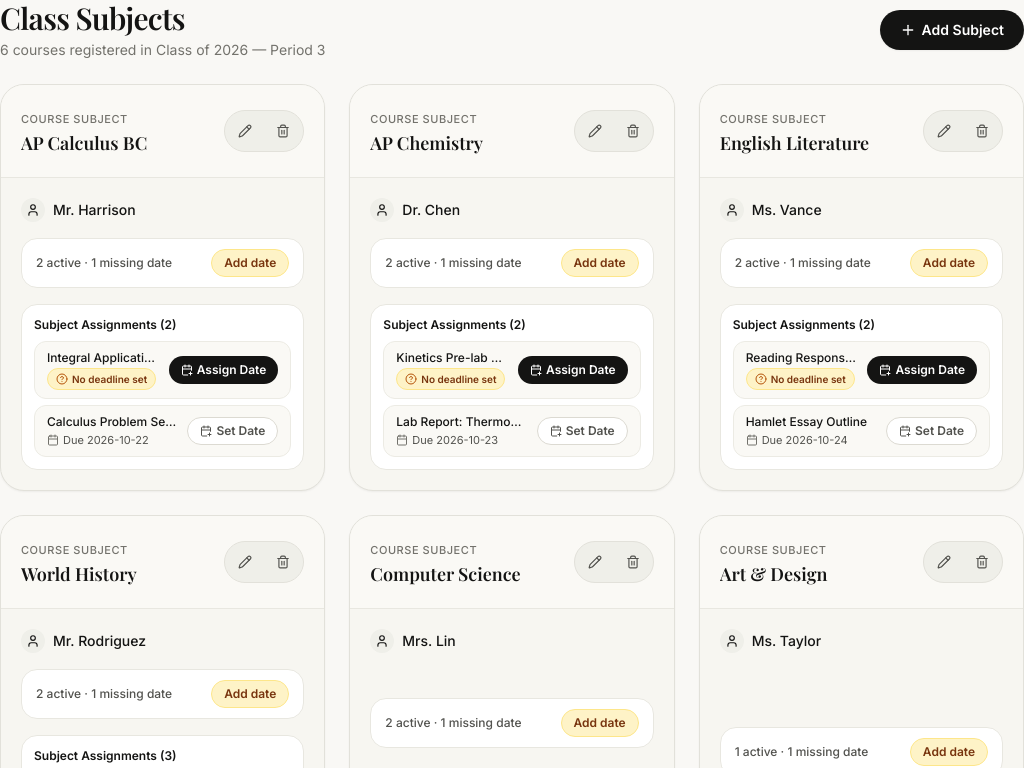
Test: SubjectsScreen Component › shows all assignments for subjects even when there are no deadlines, and lets students assign a deadline
Expected: the heading "AP Calculus BC" is shown, [21,129,147,157]
Expected: the text "Calculus Problem Set 4" is shown, [47,414,179,430]
# Student assigns a deadline to the undated assignment
Click the button with aria-label "assign deadline for integral applications worksheet" at coordinates (224, 370), box [169,356,278,384]
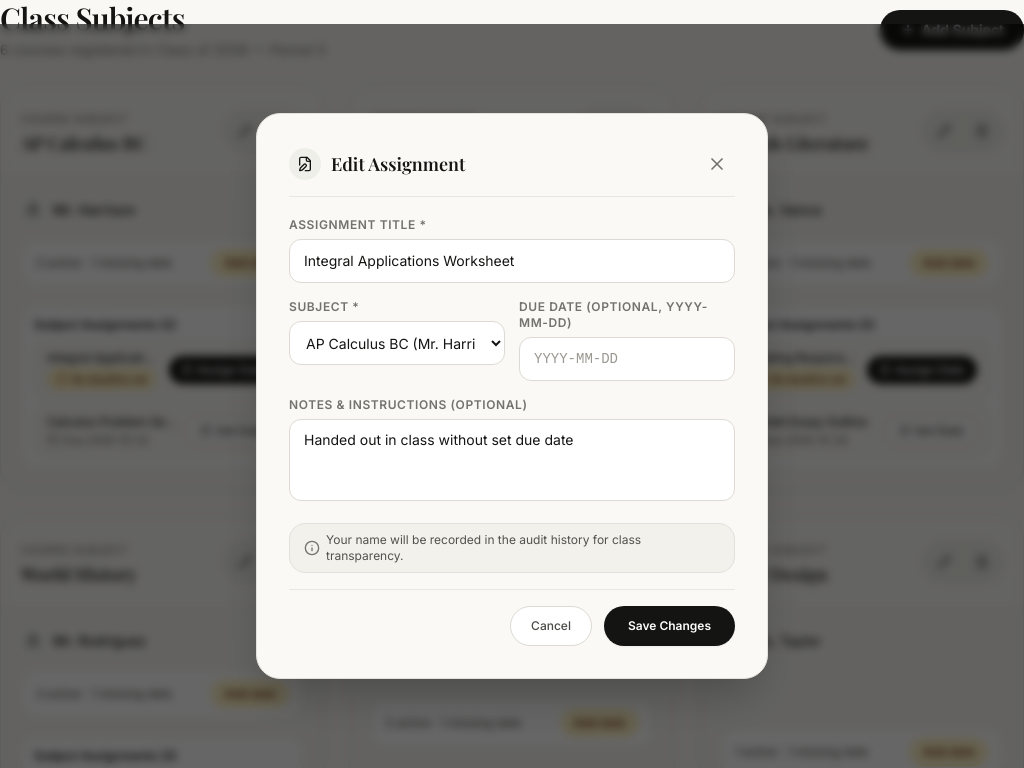
Type "2026-10-20" into the field labelled "Due Date (optional, YYYY-MM-DD)" at coordinates (627, 359), box [519,337,735,381]
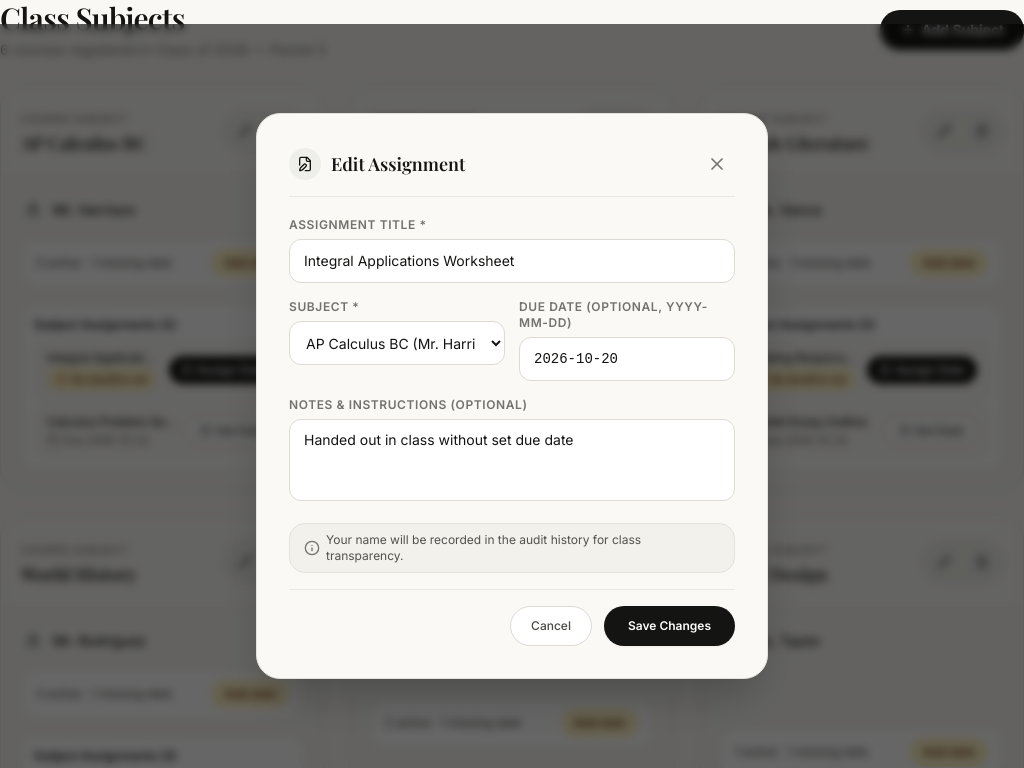
Click the button "Save Changes" at coordinates (669, 626), box [604,606,735,646]
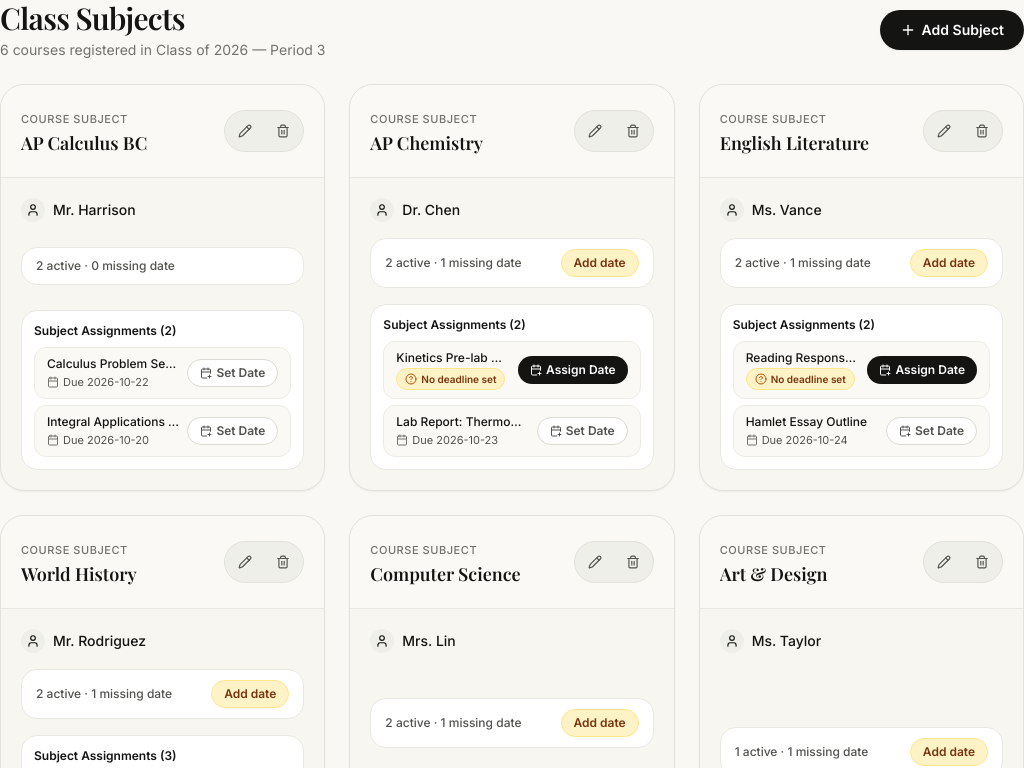
Result: the text "Due 2026-10-20" is shown at [47,432,149,448]
